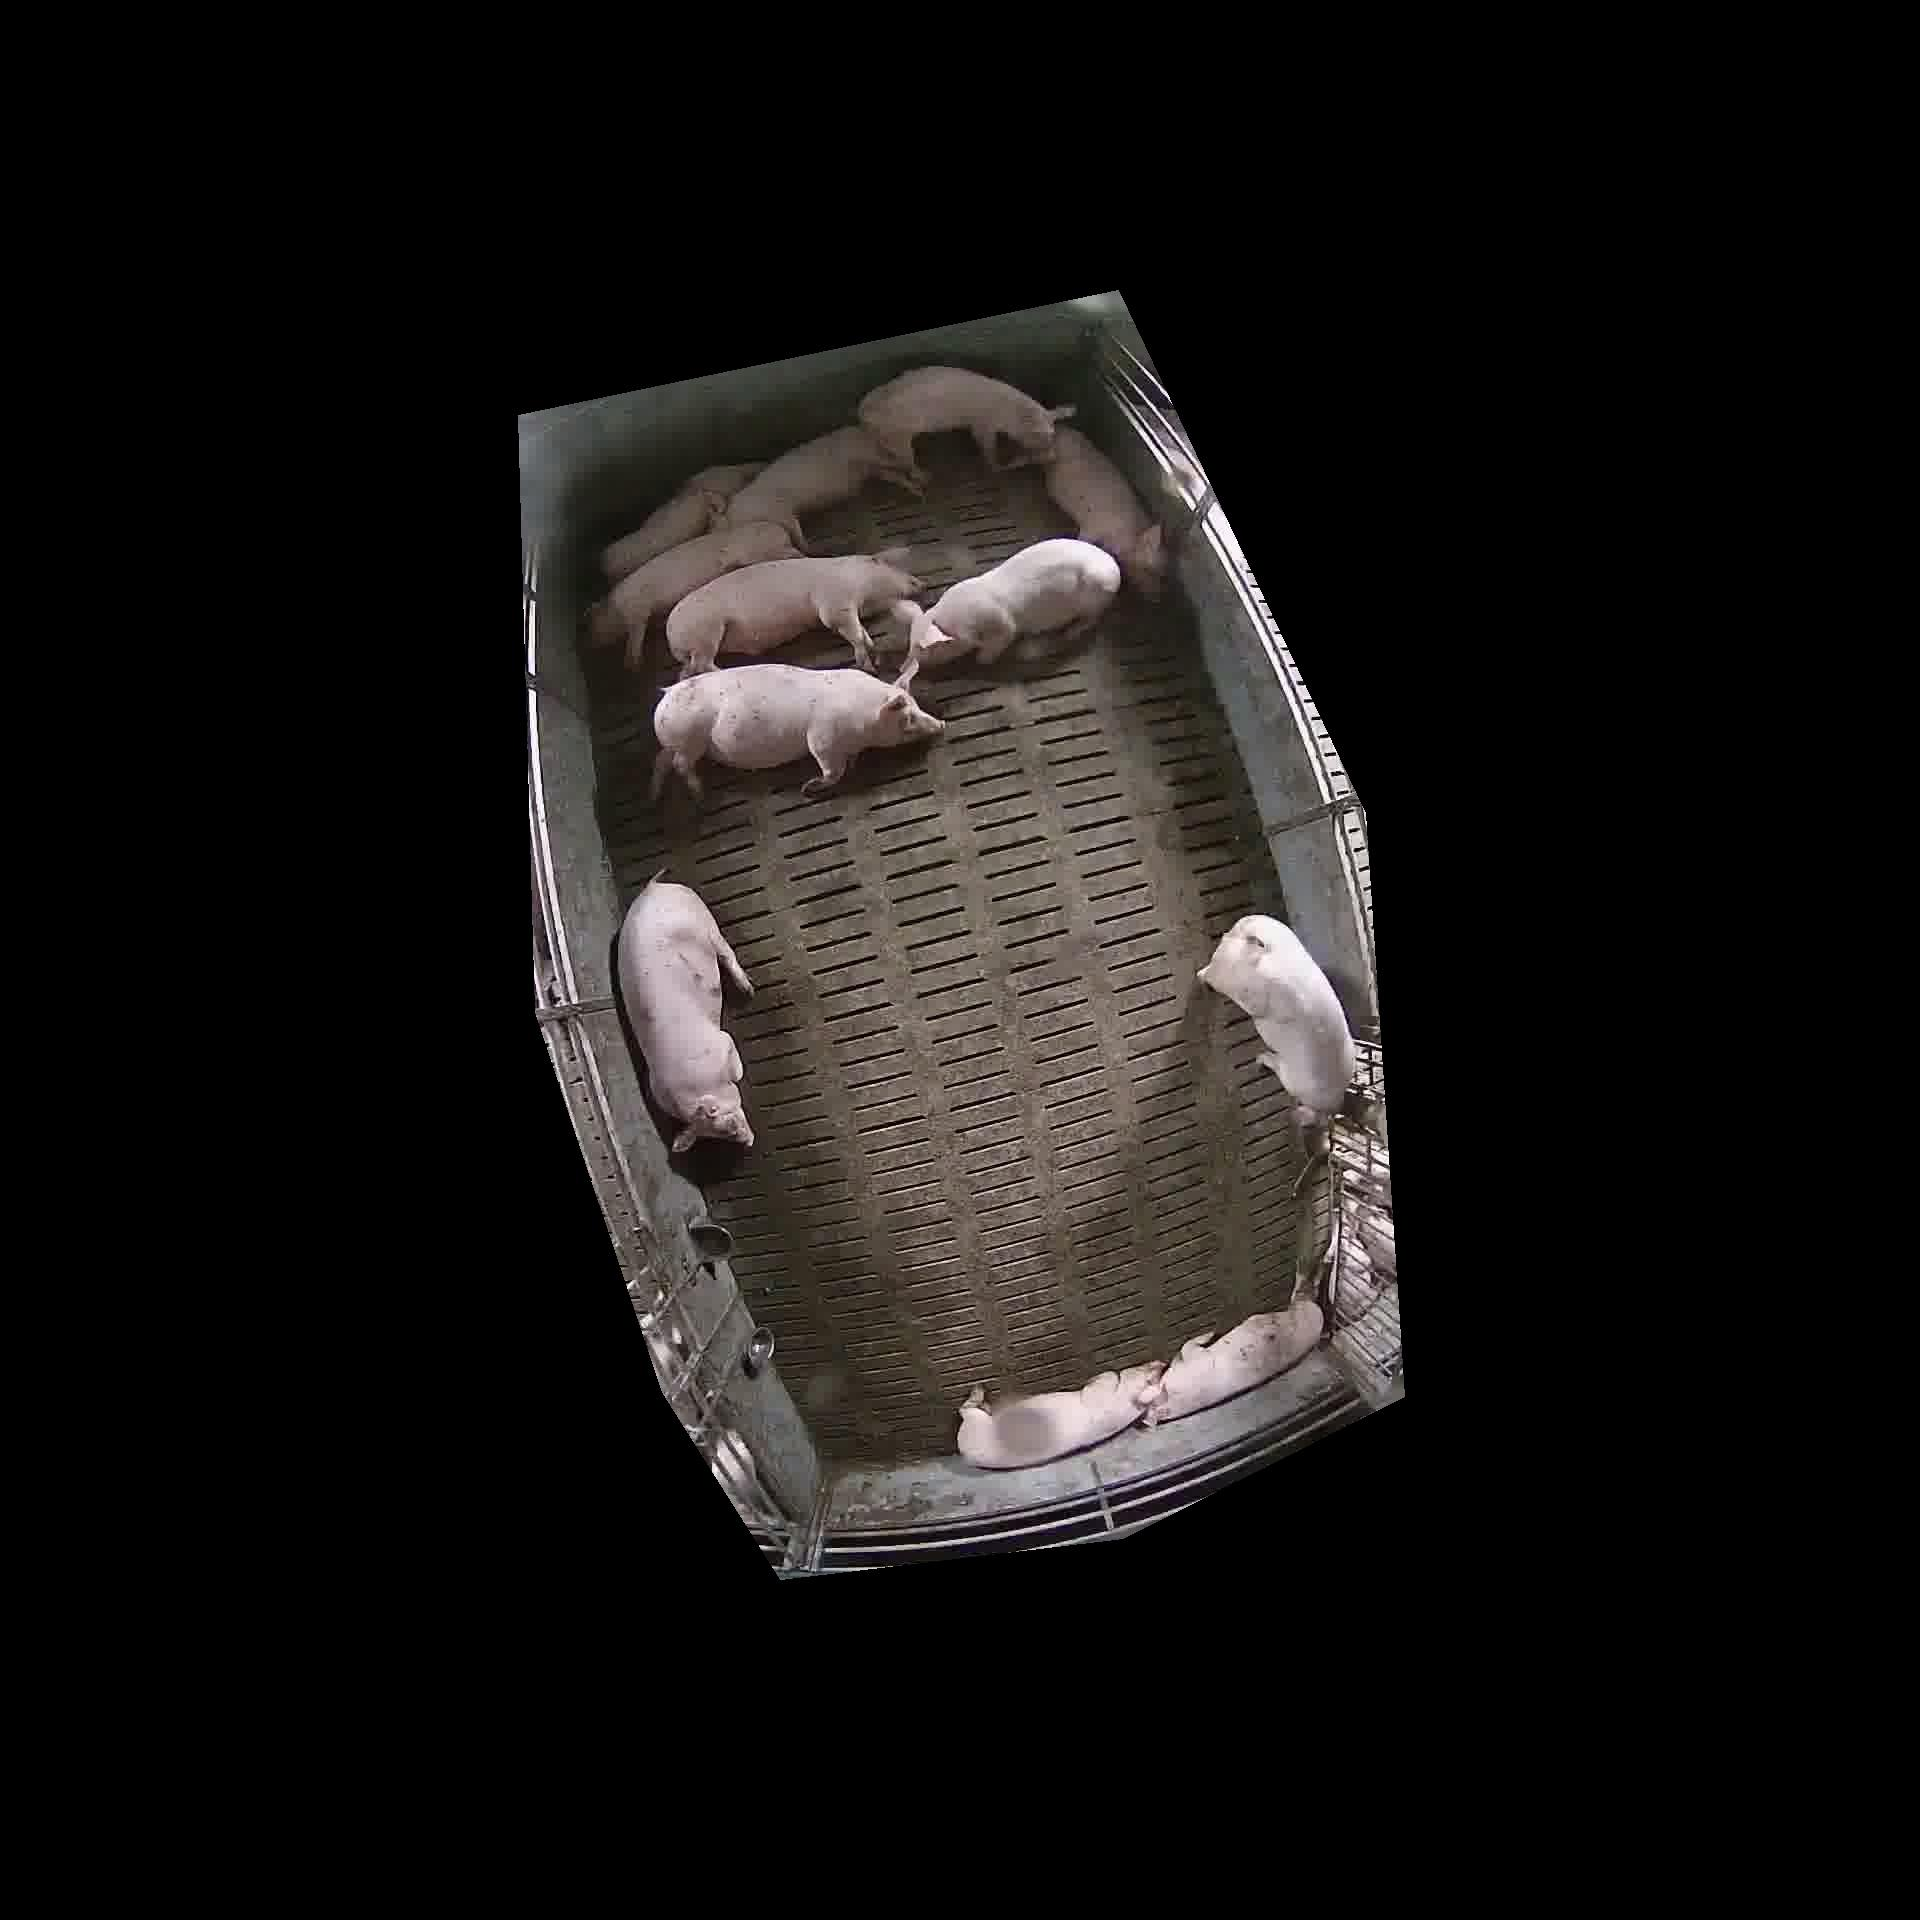pig: (651, 665, 942, 796), (1199, 914, 1356, 1153), (617, 877, 753, 1153), (589, 520, 798, 666), (666, 556, 921, 675), (911, 538, 1120, 665), (858, 366, 1074, 478), (723, 425, 921, 547), (956, 1361, 1164, 1468), (1146, 1299, 1322, 1422), (1044, 425, 1167, 596), (600, 462, 761, 580)
